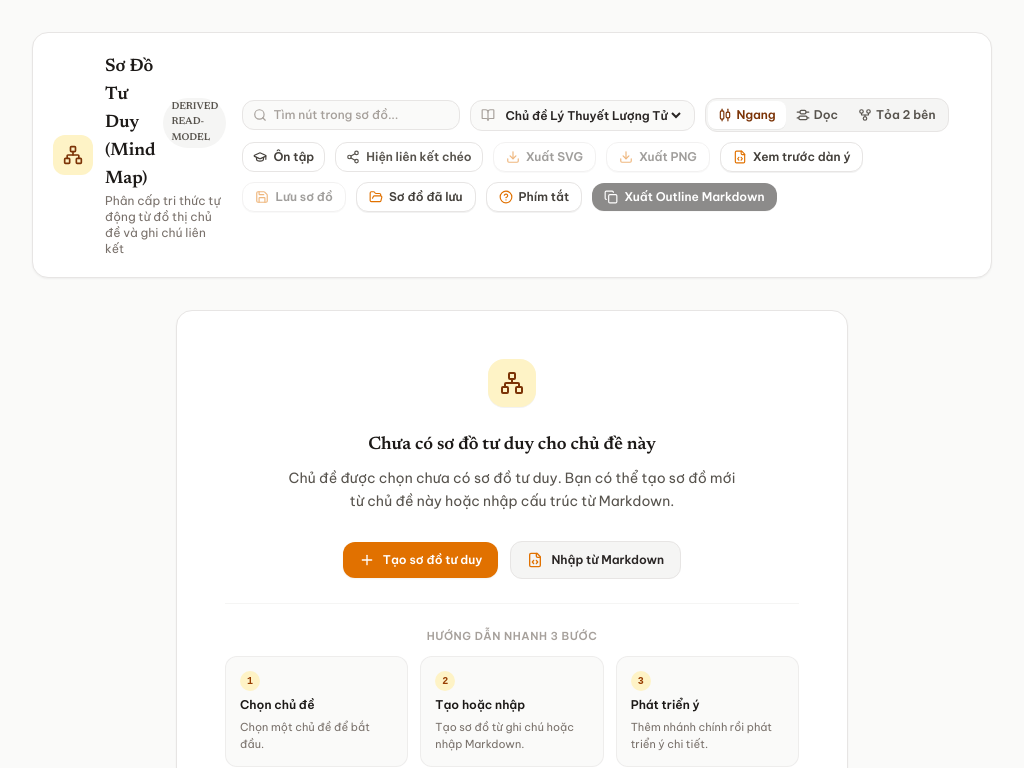
Test: PR 4 (Phase 25): MindMap Empty State, Onboarding & Error Differentiation › Scenario 2: When topics exist but current topic has no MindMap/nodes, displays topic empty state with 'Tạo sơ đồ tư duy' and 'Nhập từ Markdown'
Expected: the heading "Chưa có sơ đồ tư duy cho chủ đề này" is shown, x1=368 y1=436 x2=656 y2=454
Expected: the text "Chủ đề được chọn chưa có sơ đồ tư duy" is shown, x1=289 y1=469 x2=735 y2=510
# Clicking Primary CTA triggers mindmap creation for the topic
Click the button "Tạo sơ đồ tư duy" at x=421, y=560, box x1=343 y1=542 x2=498 y2=578
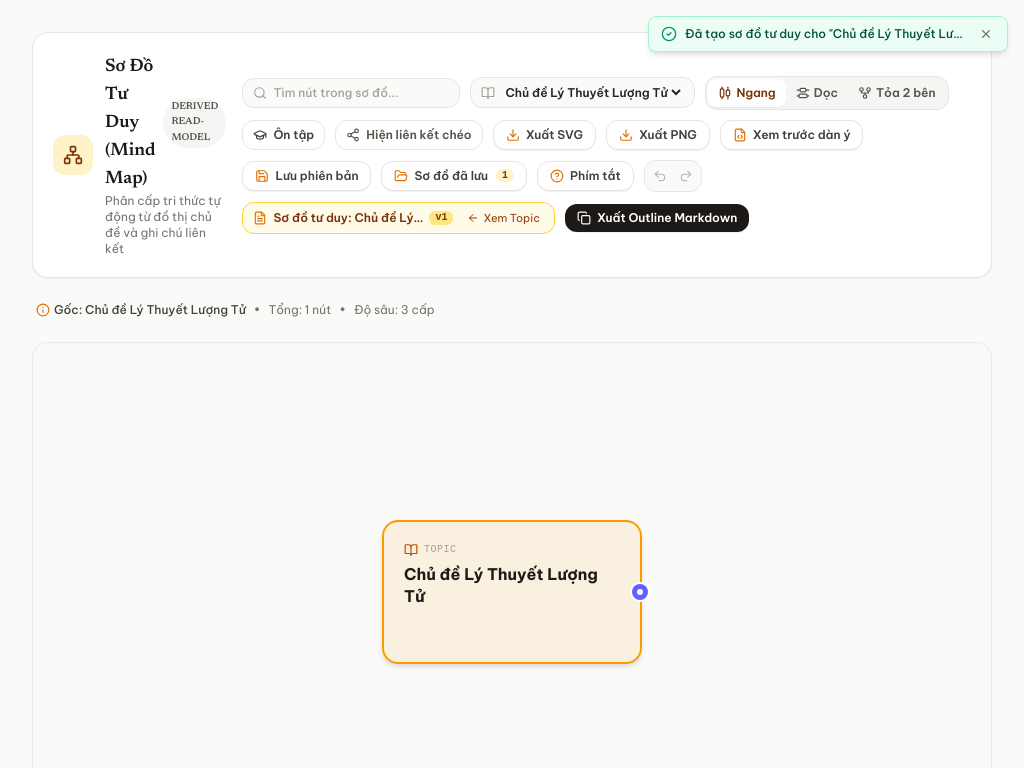
Now the heading "Chưa có sơ đồ tư duy cho chủ đề này" is gone
